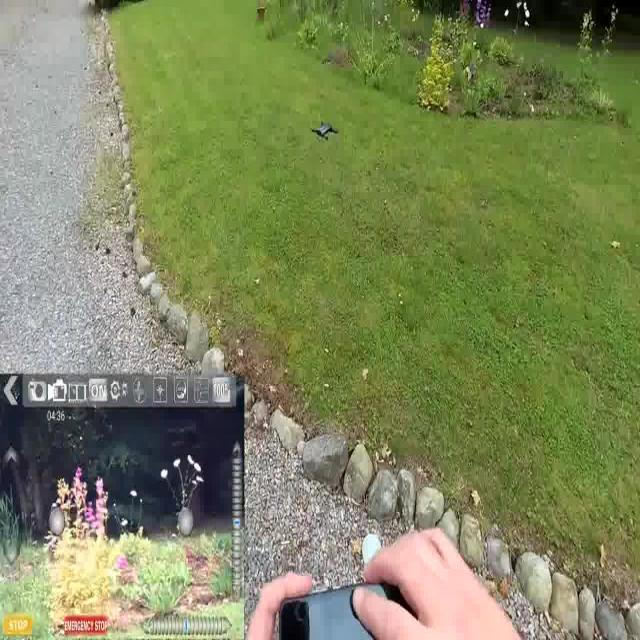drone: (309, 115, 341, 148)
